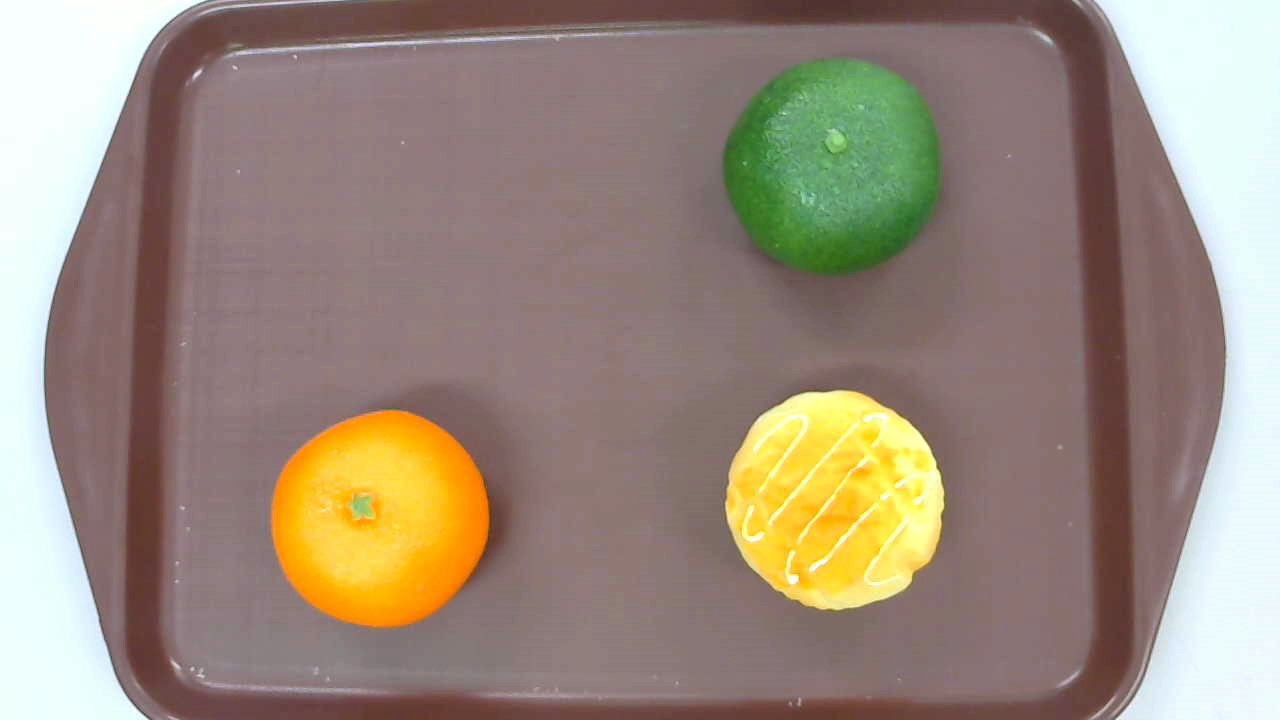cupcake: (723, 388, 947, 610)
green orange: (724, 56, 941, 276)
orange: (270, 408, 489, 629)
